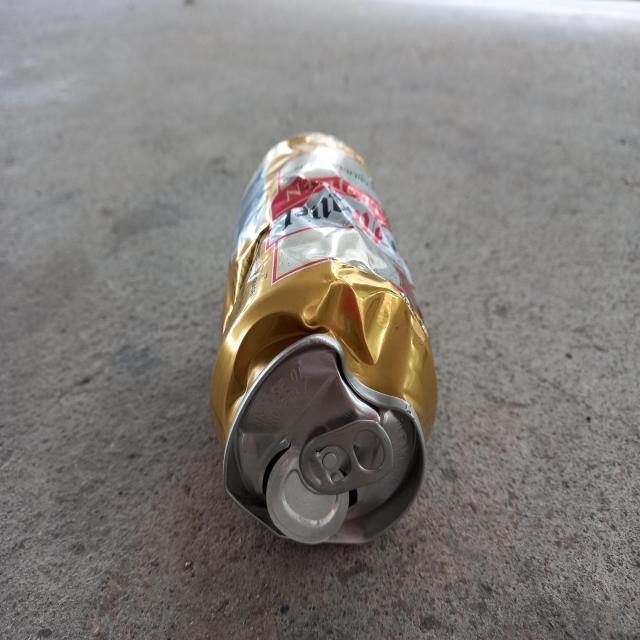can: (211, 132, 438, 545)
